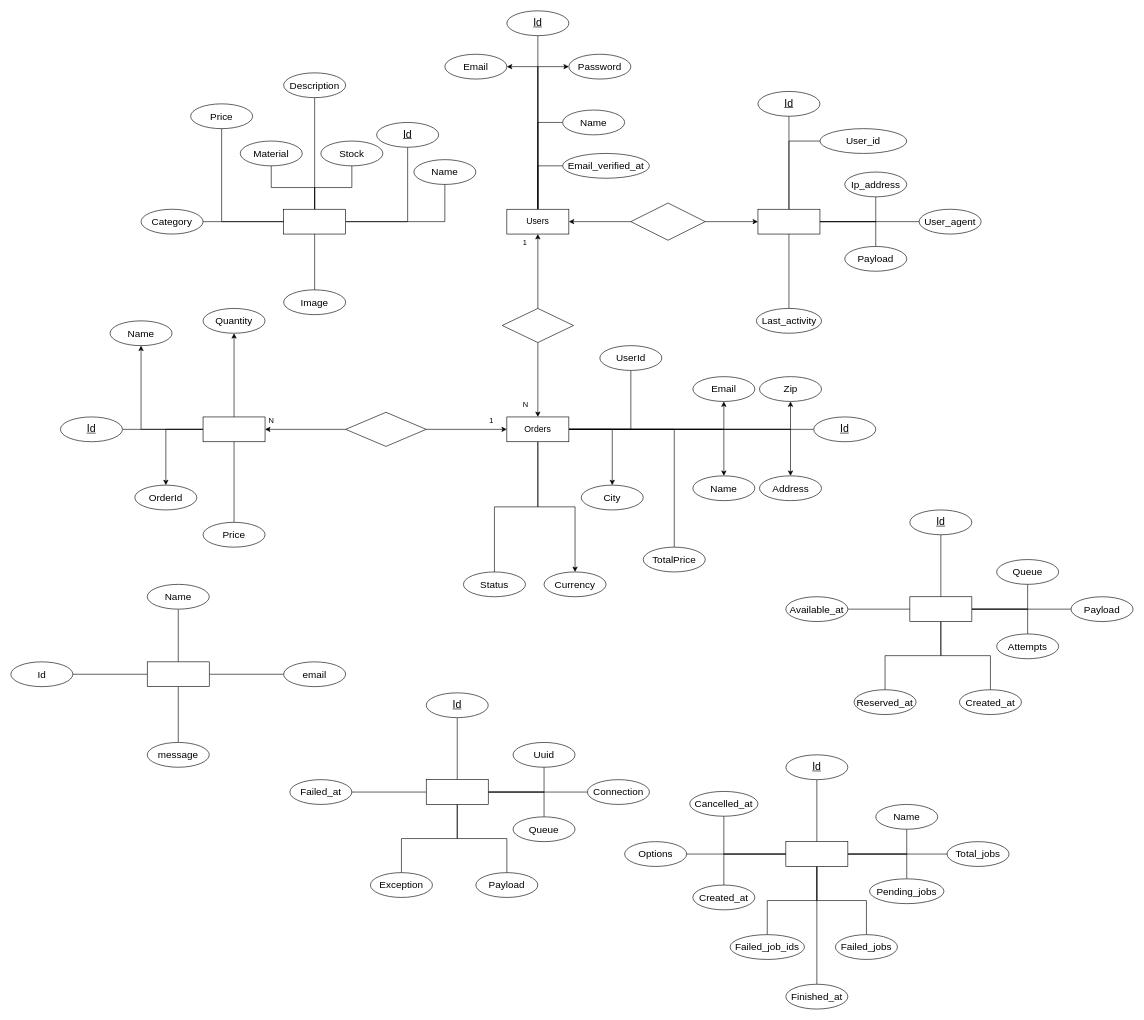
This 1144x1020 diagram has some shape labels left out. Here are the shapes that lost their labels. From the top down, the box of each, then its label:
(283, 209, 346, 234): Product
(630, 202, 705, 240): User-Session
(757, 209, 820, 234): Sessions
(502, 308, 574, 343): User-Orders
(202, 416, 265, 442): OrderItems
(345, 412, 426, 446): Ordered:items
(909, 596, 972, 622): Jobs
(147, 661, 209, 687): Contacts
(426, 779, 488, 804): Failed_jobs
(785, 841, 848, 866): Job_Batches
